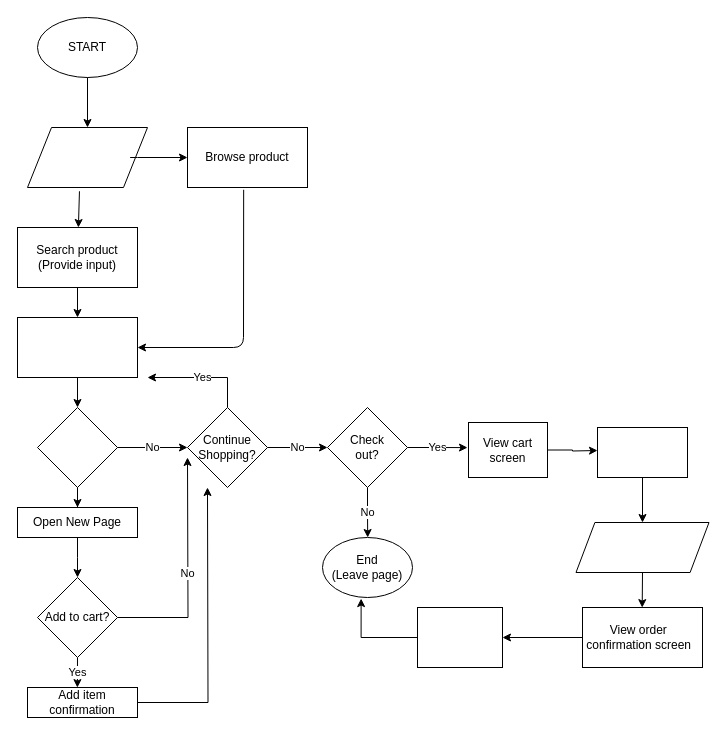
Some shapes in this 727 by 735 pixel diagram are drawn without their labels. Each missing label, with the box of its shape:
Enter webpage: (26, 126, 148, 188)
Give input payment information: (575, 522, 709, 572)
Looking over products: (16, 316, 138, 378)
Send email confirmation: (416, 606, 502, 668)
View payment screen: (596, 426, 688, 478)
Viewing Specific Prod: (36, 406, 118, 488)
